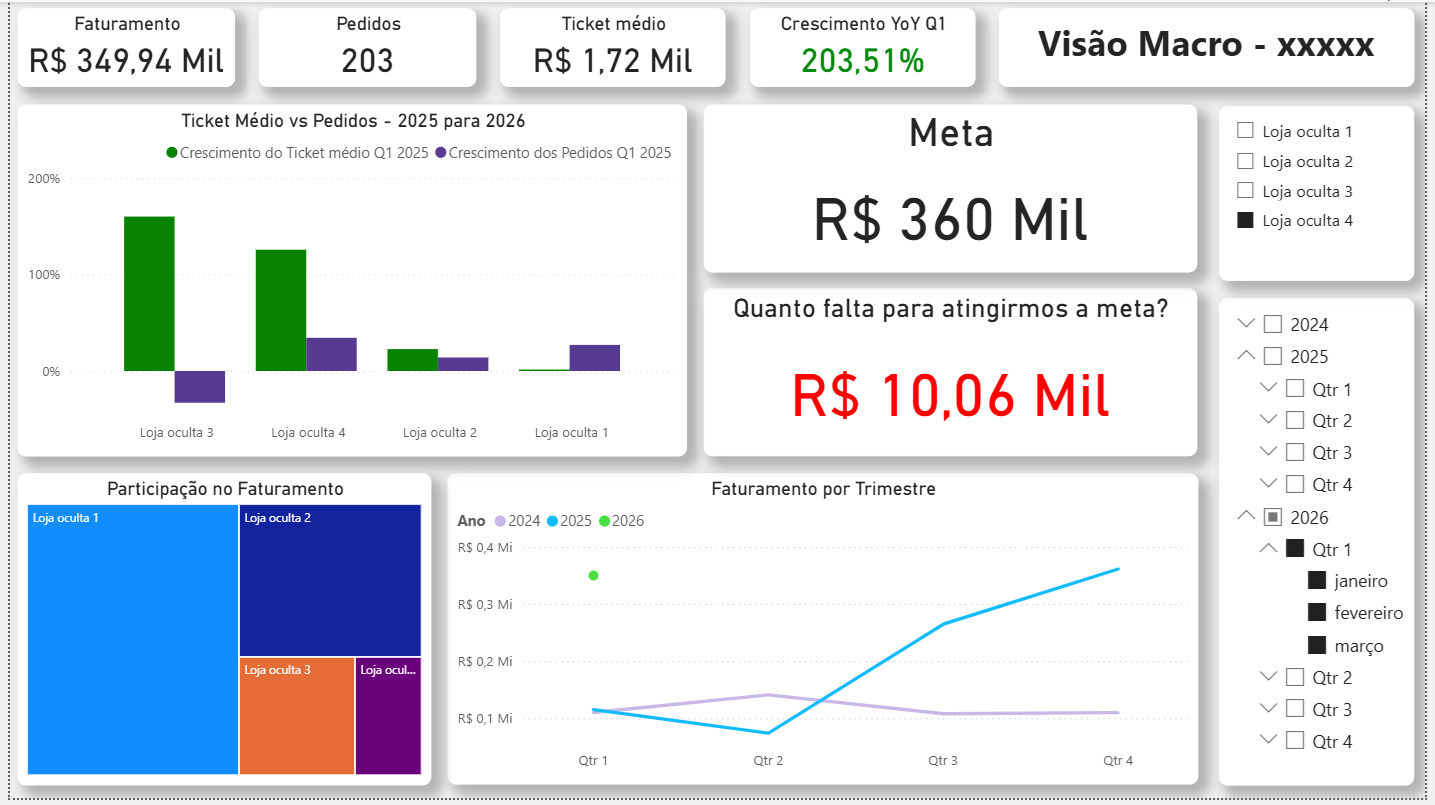

This screenshot's page, from the dashboard's own definition file:
{"tool":"powerbi","page":{"name":"Visão Macro","canvas":[1280,720],"ordinal":0},"visuals":[{"type":"card","title":"Faturamento","fields":{"Values":["Sum(Visão Macro.Faturamento)"]},"box":[7.1,5.7,197.1,71.4],"z":0},{"type":"slicer","fields":{"Values":["Calendario.Date.Variation.Hierarquia de datas.Ano","Calendario.Date.Variation.Hierarquia de datas.Trimestre","Calendario.Date.Variation.Hierarquia de datas.Mês"]},"box":[1093.9,267.8,176.5,440.7],"z":1000},{"type":"card","title":"Pedidos","fields":{"Values":["Sum(Visão Macro.Número de pedidos)"]},"box":[225.4,5.7,197.1,71.4],"z":2000},{"type":"card","title":"Ticket médio","fields":{"Values":["Visão Macro.Ticket Médio Medida"]},"box":[443.6,5.7,204.3,71.4],"z":3000},{"type":"card","title":"Crescimento YoY Q1","fields":{"Values":["Visão Macro.% Crescimento YoY"]},"box":[668.9,5.7,204.3,71.4],"z":4000},{"type":"slicer","fields":{"Values":["Visão Macro.Loja únificada"]},"box":[1093.9,93.7,176.5,158.5],"z":5000},{"type":"lineChart","title":"Faturamento por Trimestre","fields":{"Y":["Visão Macro.Faturamento total"],"Category":["Calendario.Date.Variation.Hierarquia de datas.Trimestre"],"Series":["Calendario.Date.Variation.Hierarquia de datas.Ano"]},"box":[395.3,426.7,679.1,281.4],"z":6000},{"type":"clusteredColumnChart","title":"Ticket Médio vs Pedidos - 2025 para 2026","fields":{"Category":["Visão Macro.Loja únificada"],"Y":["Visão Macro.% Cresc Ticket 2025 Q1","Visão Macro.% Cresc Pedidos 2025 Q1"]},"box":[7,93,605.8,318.6],"z":7000},{"type":"treemap","title":"Participação no Faturamento","fields":{"Group":["Visão Macro.Loja únificada"],"Values":["Visão Macro.Faturamento total"]},"box":[7.2,426.3,374.6,282.2],"z":8000},{"type":"textbox","box":[894.3,5.7,375.7,71.4],"z":9000},{"type":"card","title":"Quanto falta para atingirmos a meta?","fields":{"Values":["Visão Macro.Quanto Falta"]},"box":[627.9,259.3,446.5,152.3],"z":10000},{"type":"card","title":"Meta","fields":{"Values":["Metas.Meta total"]},"box":[627.9,93,446.5,152.3],"z":11000}]}

Visuals, with their boxes in screenshot pixels (x1, y1, x2, y2), scaled from the page's 1280x720 canvas onto the 1435x805 screenshot:
"Faturamento" card: bbox=(8, 6, 229, 86)
slicer - Calendario.Date.Variation.Hierarquia de datas.Ano x Calendario.Date.Variation.Hierarquia de datas.Trimestre: bbox=(1226, 299, 1424, 792)
"Pedidos" card: bbox=(253, 6, 474, 86)
"Ticket médio" card: bbox=(497, 6, 726, 86)
"Crescimento YoY Q1" card: bbox=(750, 6, 979, 86)
slicer - Visão Macro.Loja únificada: bbox=(1226, 105, 1424, 282)
"Faturamento por Trimestre" lineChart: bbox=(443, 477, 1205, 792)
"Ticket Médio vs Pedidos - 2025 para 2026" clusteredColumnChart: bbox=(8, 104, 687, 460)
"Participação no Faturamento" treemap: bbox=(8, 477, 428, 792)
textbox: bbox=(1003, 6, 1424, 86)
"Quanto falta para atingirmos a meta?" card: bbox=(704, 290, 1205, 460)
"Meta" card: bbox=(704, 104, 1205, 274)
